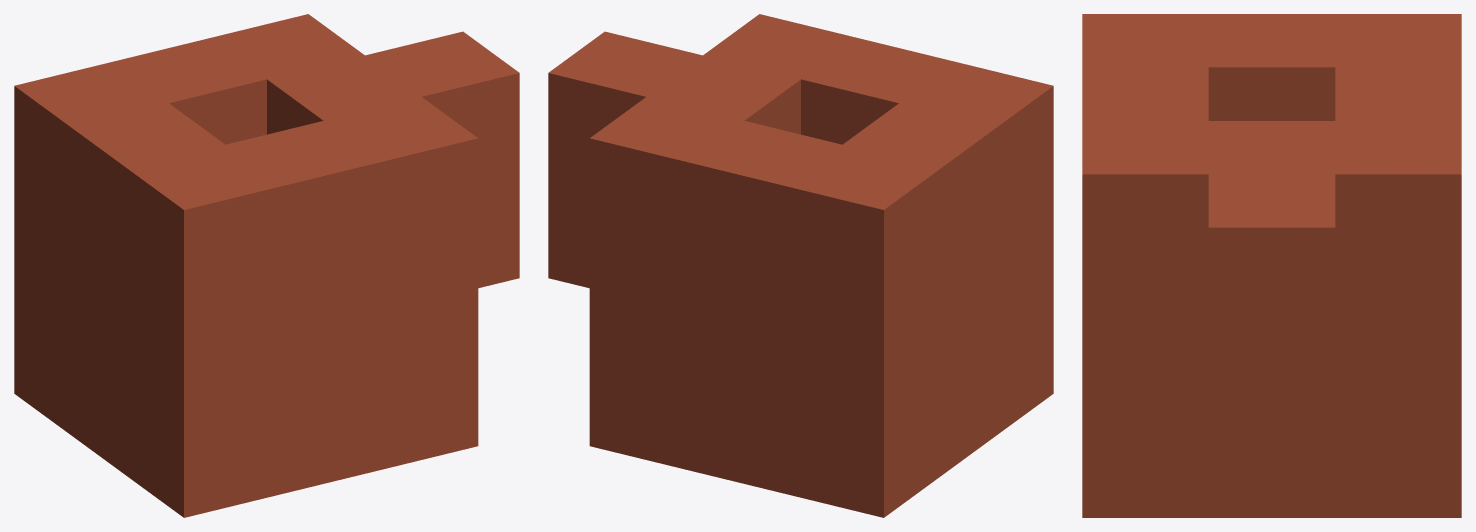
Rendered from mug_a.obj.
3 views of the same model, side by side, from view 1: azimuth 30°, elevation 25°; view 2: azimuth 150°, elevation 25°; view 3: azimuth 270°, elevation 25° (orthographic). The views are drawn at different scales.
Size of the model in its own units: 0.4 by 0.3 by 0.3.
Materials: 1 (1 with a texture image).
